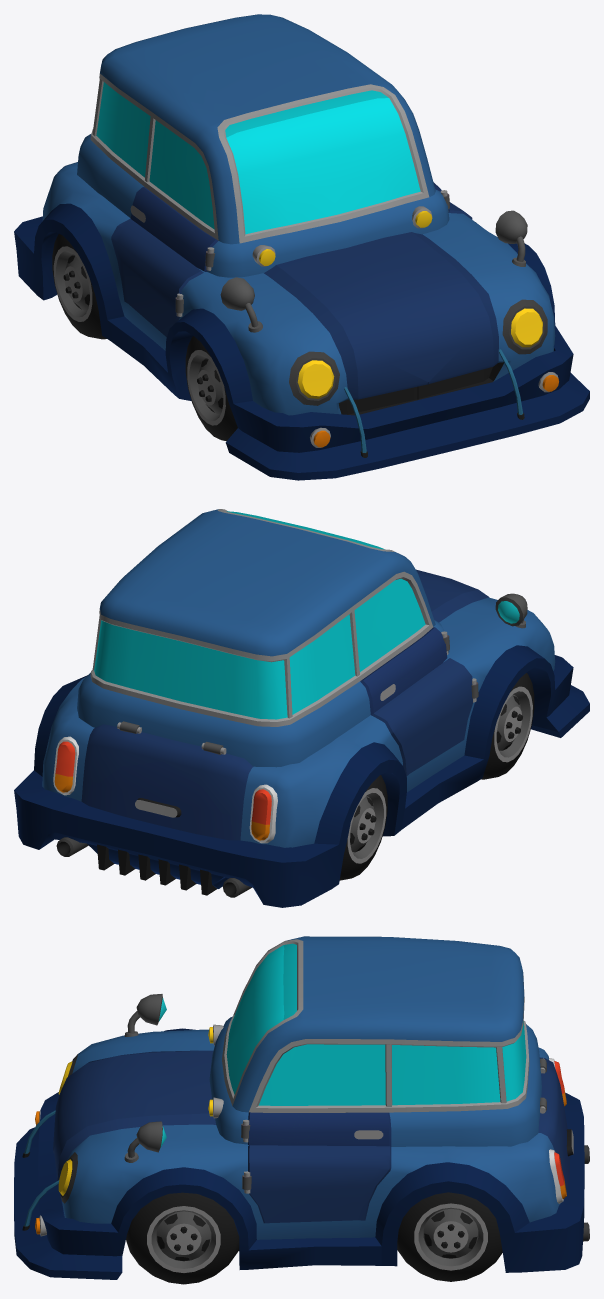
The model's file is VEH13-A.fbx.
3 renders of one model, top to bottom at view 1: azimuth 30°, elevation 25°; view 2: azimuth 150°, elevation 25°; view 3: azimuth 270°, elevation 25°, orthographic. The views are drawn at different scales.
Visible parts, largest first — view 1: VEH13_A, V13A_Wheel_BR, V13A_Wheel_FR; view 2: VEH13_A, V13A_Wheel_FR, V13A_Wheel_BR; view 3: VEH13_A, V13A_Wheel_FL, V13A_Wheel_BL.
Boxes of the visible parts, x1=… form: VEH13_A: x1=14, y1=14, x2=589, y2=480; V13A_Wheel_BR: x1=52, y1=234, x2=106, y2=339; V13A_Wheel_FR: x1=185, y1=336, x2=237, y2=440; VEH13_A: x1=14, y1=509, x2=589, y2=907; V13A_Wheel_FR: x1=481, y1=673, x2=534, y2=779; V13A_Wheel_BR: x1=339, y1=775, x2=387, y2=880; VEH13_A: x1=14, y1=936, x2=589, y2=1279; V13A_Wheel_FL: x1=126, y1=1192, x2=239, y2=1284; V13A_Wheel_BL: x1=397, y1=1192, x2=502, y2=1281.
Size of the model in its own units: 280 by 208 by 437.
Materials: 1 (1 with a texture image).
